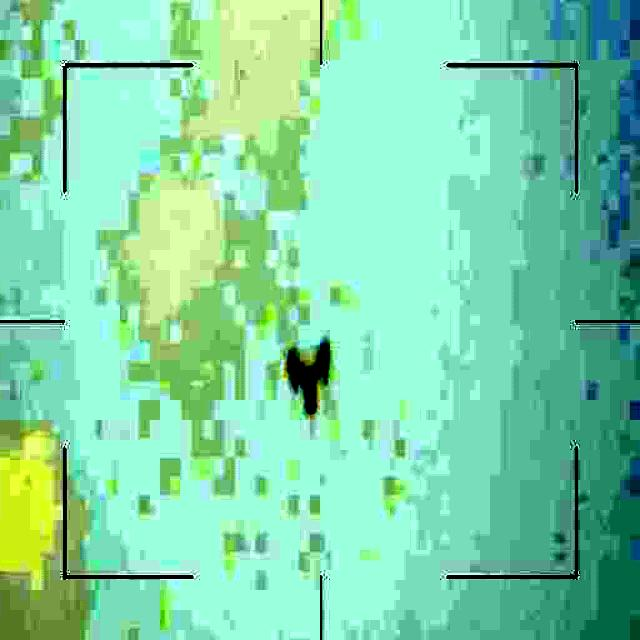bird: (279, 340, 335, 412)
